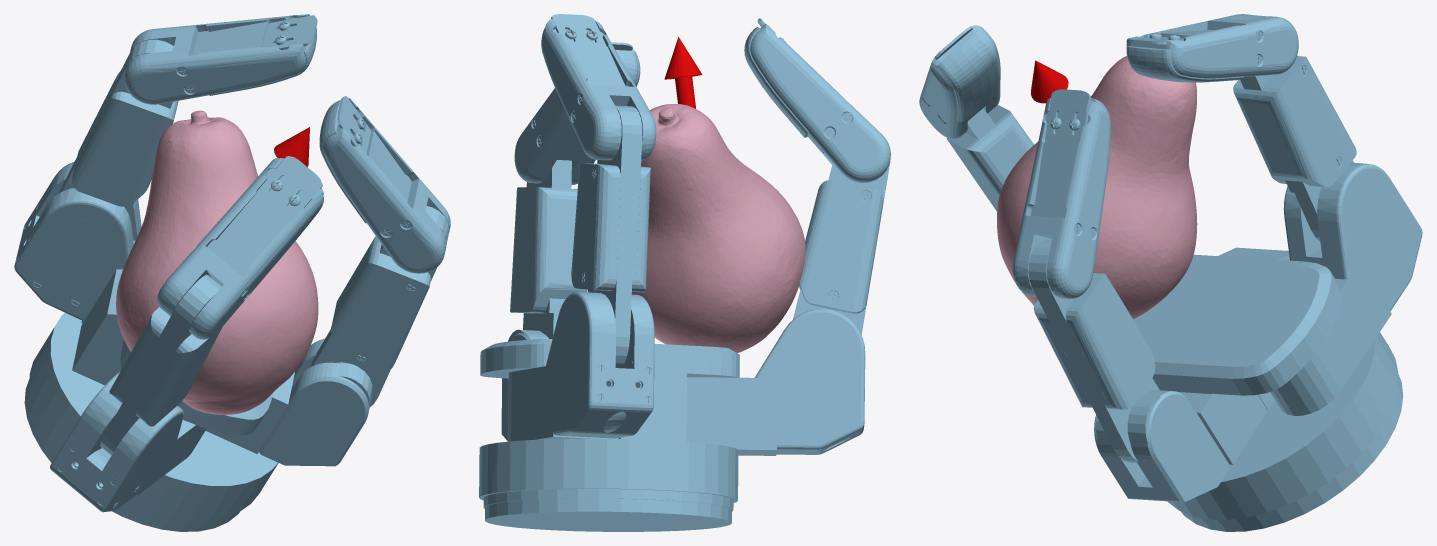
3 renders of one model, left to right at view 1: azimuth 30°, elevation 25°; view 2: azimuth 150°, elevation 25°; view 3: azimuth 270°, elevation 25°, orthographic. The views are drawn at different scales.
Visible parts, largest first — view 1: world, pear.stl; view 2: world, pear.stl; view 3: world, pear.stl.
Part boxes in pixels (x1,y1,x2,y2): world: (14,14,450,531); pear.stl: (116,110,318,414); world: (479,14,890,531); pear.stl: (631,104,805,353); world: (919,14,1422,531); pear.stl: (997,56,1197,318).
Bounding box in the file's own units: 0.1468 × 0.1856 × 0.165.
